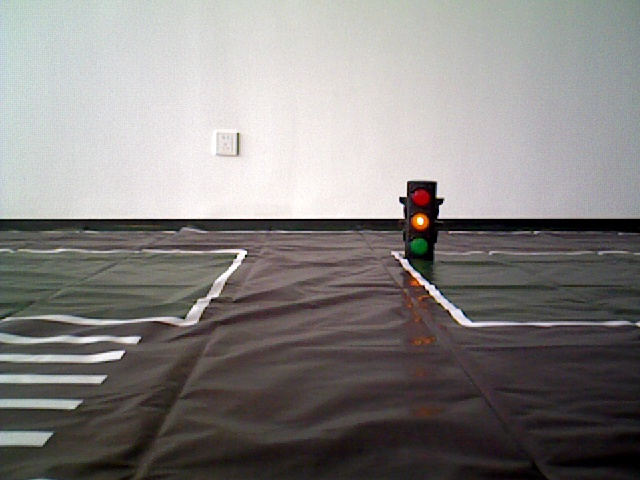yellow: (404, 179, 437, 256)
